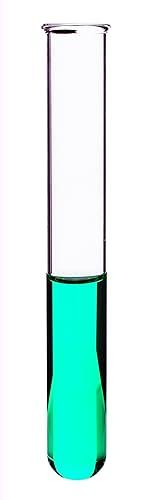Test tube: (32, 24, 117, 484)
